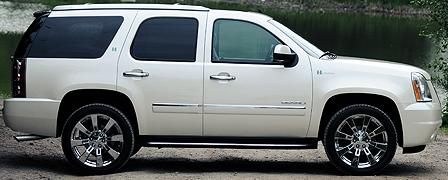backlight: (5, 53, 33, 103)
headlight: (405, 70, 434, 106)
side_glass: (122, 9, 304, 68)
